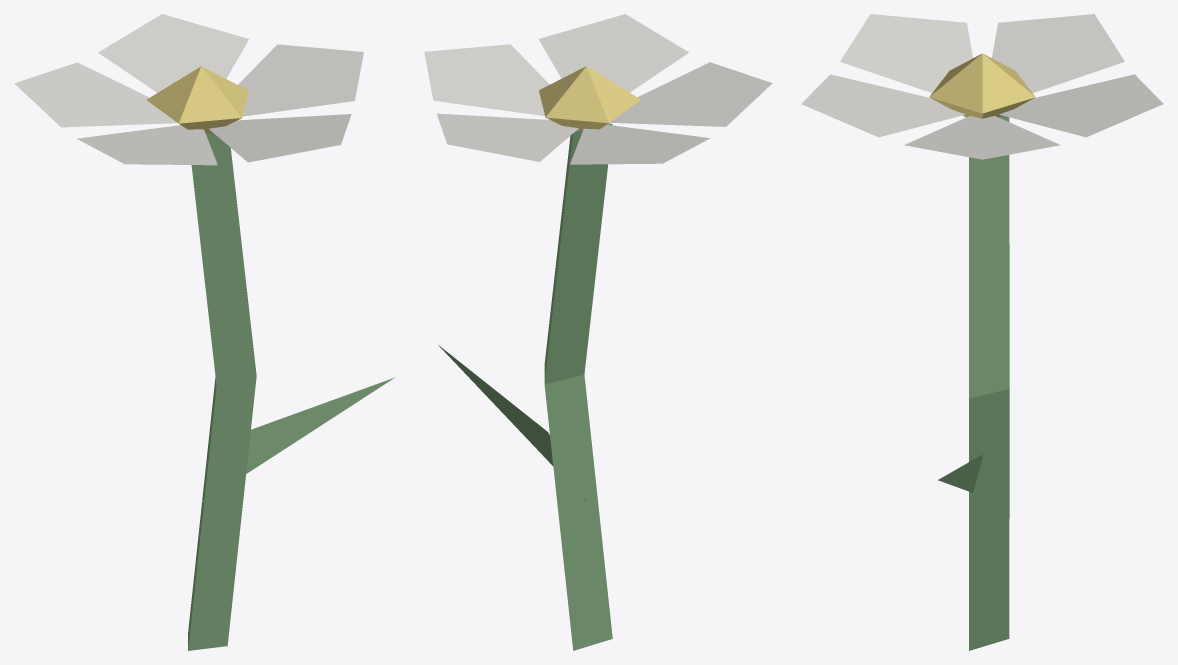
File: wild_flower_0.gltf
3 views of the same model, side by side, from view 1: azimuth 30°, elevation 25°; view 2: azimuth 150°, elevation 25°; view 3: azimuth 270°, elevation 25° (orthographic).
Visible parts, largest first — view 1: wild_flower_0; view 2: wild_flower_0; view 3: wild_flower_0.
Part boxes in pixels (bbox=[...]): wild_flower_0: bbox=[14, 14, 394, 650]; wild_flower_0: bbox=[424, 14, 772, 650]; wild_flower_0: bbox=[801, 14, 1163, 650].
Size of the model in its own units: 0.1591 by 0.2892 by 0.1617.
